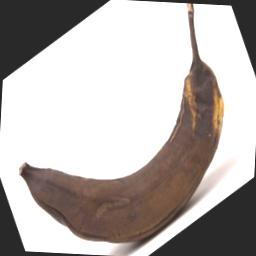Banana Rotten: (4, 15, 254, 256)
